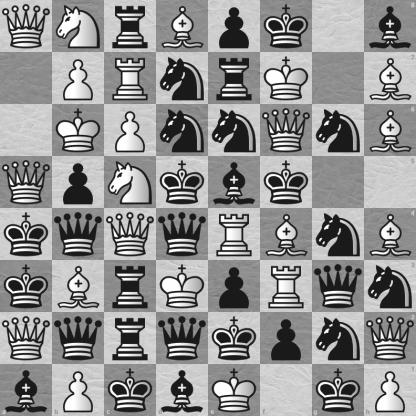B: (364, 52, 416, 104), (364, 104, 416, 156), (364, 209, 416, 260), (53, 261, 104, 312), (157, 1, 208, 52), (261, 209, 312, 260)
K: (209, 364, 260, 416), (53, 105, 104, 156), (157, 261, 208, 312), (261, 53, 312, 104)
N: (53, 1, 104, 52), (105, 157, 156, 208)
P: (52, 364, 104, 416), (364, 364, 416, 416), (53, 53, 104, 104), (105, 105, 156, 156)
Q: (364, 312, 416, 364), (1, 1, 52, 52), (1, 157, 52, 208), (1, 313, 52, 364), (105, 209, 156, 260), (261, 105, 312, 156)
R: (105, 53, 156, 104), (209, 209, 260, 260), (261, 261, 312, 312)
b: (156, 364, 209, 416), (0, 364, 52, 416), (364, 0, 416, 52), (209, 157, 260, 208)
board: (0, 0, 415, 415)
k: (104, 364, 156, 416), (312, 364, 364, 416), (1, 209, 52, 260), (1, 261, 52, 312), (157, 157, 208, 208), (209, 313, 260, 364), (261, 1, 312, 52), (261, 157, 312, 208)
n: (364, 260, 416, 312), (157, 53, 208, 104), (157, 105, 208, 156), (209, 105, 260, 156), (313, 105, 364, 156), (313, 209, 364, 260), (313, 313, 364, 364)
p: (53, 157, 104, 208), (209, 1, 260, 52), (209, 261, 260, 312), (261, 313, 312, 364)
q: (53, 209, 104, 260), (53, 313, 104, 364), (157, 209, 208, 260), (157, 313, 208, 364), (313, 261, 364, 312)
r: (105, 1, 156, 52), (105, 261, 156, 312), (105, 313, 156, 364), (209, 53, 260, 104)
